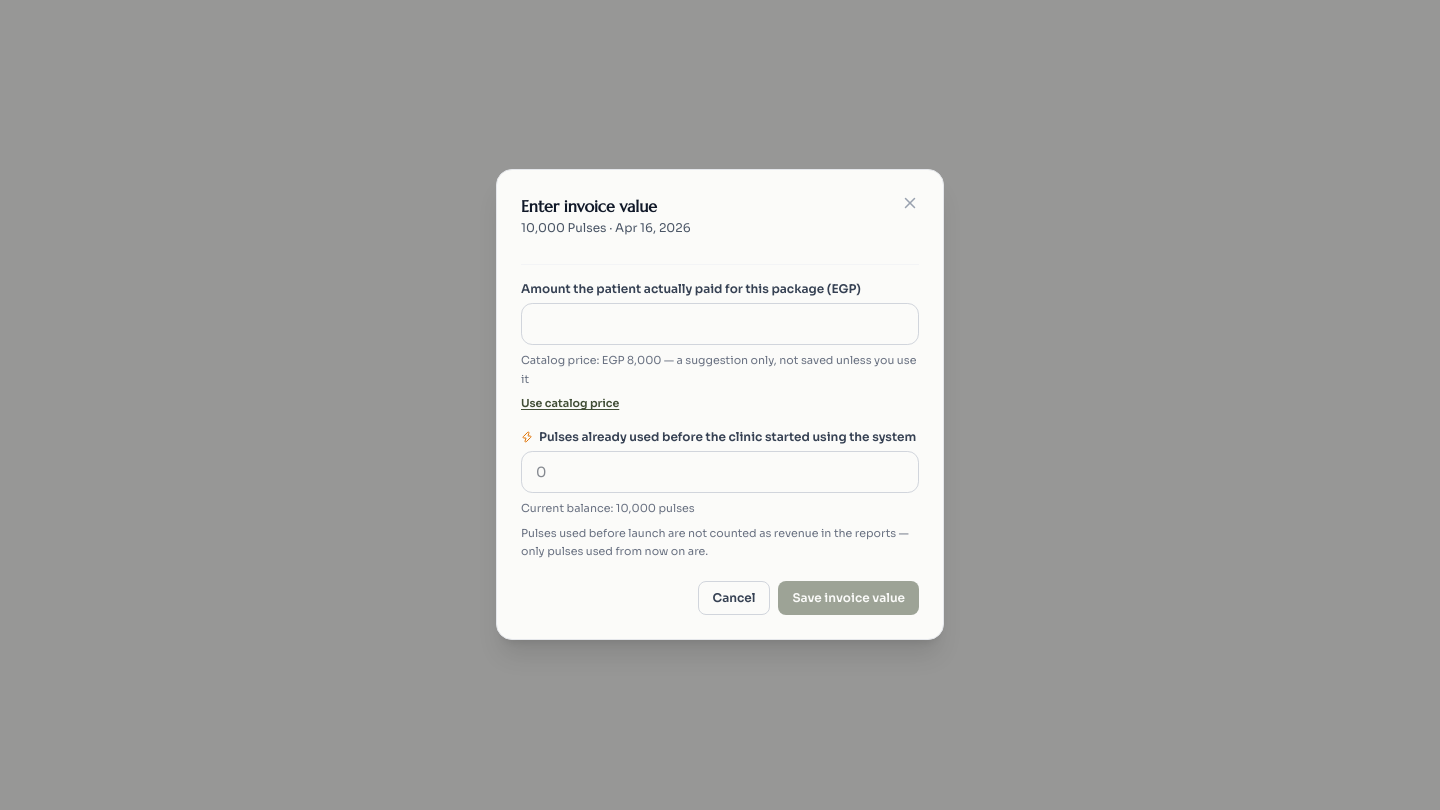
Test: ConfirmPackagePriceModal › "Use catalog price" fills the field, and only saving sends it
This screenshot has width=1440, height=810.
Click the button "Use catalog price": (570, 404) [521,395,619,414]
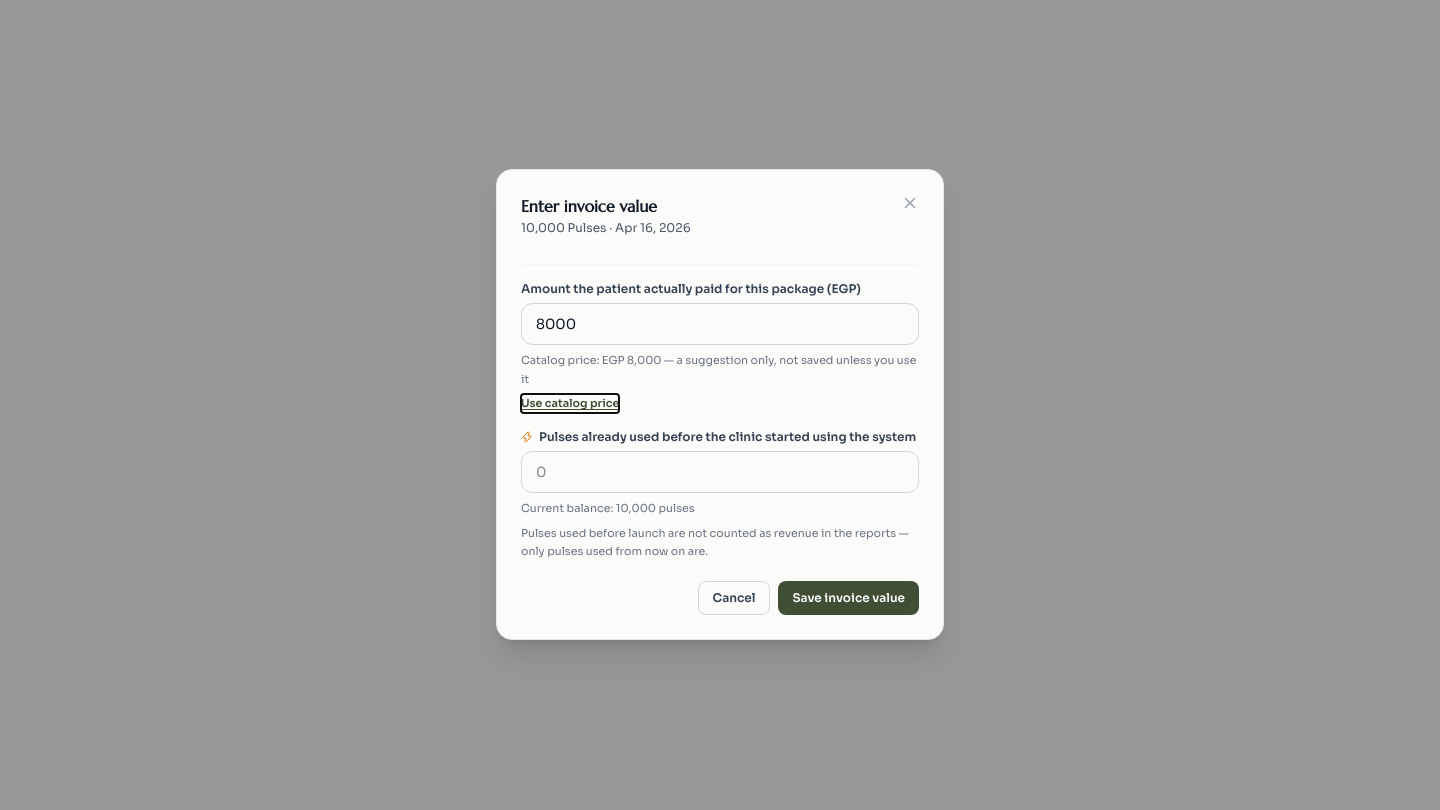
Expected: the number field labelled "Amount the patient actually paid for this package (EGP)" holds "8000", [521,303,919,345]
